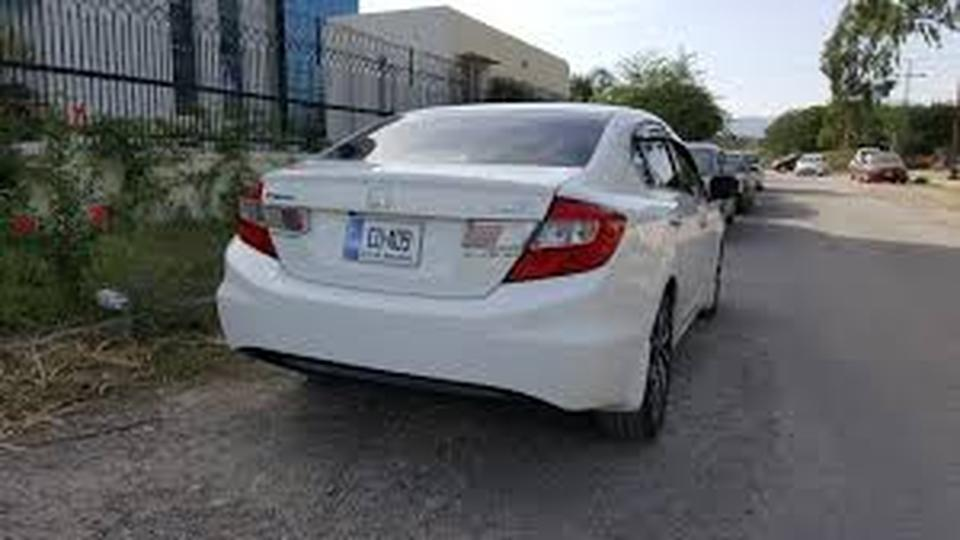NumberPlate: (327, 204, 432, 274)
